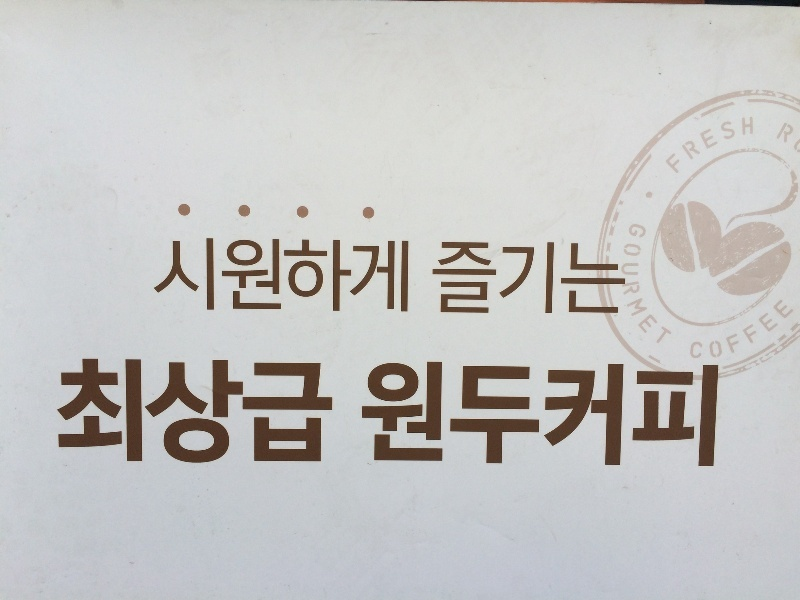text: (609, 220, 624, 351), (625, 220, 640, 351), (641, 220, 656, 351), (657, 220, 672, 351), (705, 359, 721, 476), (369, 359, 384, 476), (385, 359, 400, 476), (401, 359, 416, 476), (417, 359, 432, 476), (433, 359, 448, 476), (449, 359, 464, 476), (465, 359, 480, 476), (481, 359, 496, 476), (497, 359, 512, 476), (513, 359, 528, 476), (529, 359, 544, 476), (545, 359, 560, 476), (561, 359, 576, 476), (577, 359, 592, 476), (593, 359, 608, 476), (609, 359, 624, 476), (625, 359, 640, 476), (641, 359, 656, 476), (657, 359, 672, 476), (673, 359, 688, 476), (689, 359, 704, 476), (65, 356, 80, 467), (81, 356, 96, 467), (97, 356, 112, 467), (113, 356, 128, 467), (129, 356, 144, 467), (145, 356, 160, 467), (161, 356, 176, 467), (177, 356, 192, 467), (193, 356, 208, 467), (209, 356, 224, 467), (225, 356, 240, 467), (241, 356, 256, 467), (257, 356, 272, 467), (273, 356, 288, 467), (289, 356, 304, 467), (305, 356, 320, 467), (321, 356, 335, 467), (689, 298, 704, 380), (705, 298, 720, 380), (721, 298, 736, 380), (737, 298, 752, 380), (753, 298, 768, 380), (769, 298, 784, 380), (177, 238, 192, 318), (193, 238, 208, 318), (209, 238, 224, 318), (225, 238, 240, 318), (241, 238, 256, 318), (257, 238, 272, 318), (273, 238, 288, 318), (289, 238, 304, 318), (305, 238, 320, 318), (321, 238, 336, 318), (337, 238, 352, 318), (353, 238, 368, 318), (369, 238, 384, 318), (385, 238, 400, 318), (401, 238, 416, 318), (417, 238, 432, 318), (433, 238, 448, 318), (449, 238, 464, 318), (465, 238, 480, 318), (481, 238, 496, 318), (497, 238, 512, 318), (513, 238, 528, 318), (529, 238, 544, 318), (545, 238, 560, 318), (561, 238, 576, 318), (577, 238, 592, 318), (593, 238, 608, 318), (609, 238, 624, 318), (673, 108, 688, 177), (689, 108, 704, 177), (705, 108, 720, 177), (721, 108, 736, 177), (737, 108, 752, 177), (785, 298, 797, 380), (659, 108, 672, 177), (166, 238, 176, 318), (59, 356, 64, 467), (684, 298, 688, 380), (785, 120, 796, 147), (625, 238, 628, 318), (753, 108, 756, 177), (607, 220, 608, 351), (673, 220, 674, 351), (367, 359, 368, 476)
